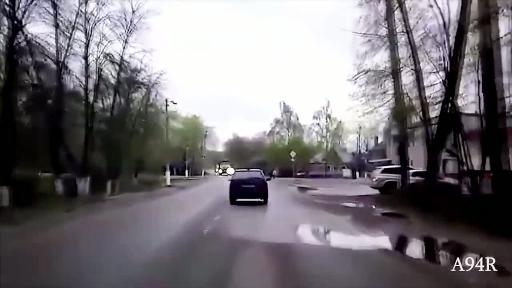CAR: (133, 85, 357, 252)
Truck: (201, 145, 234, 180)
